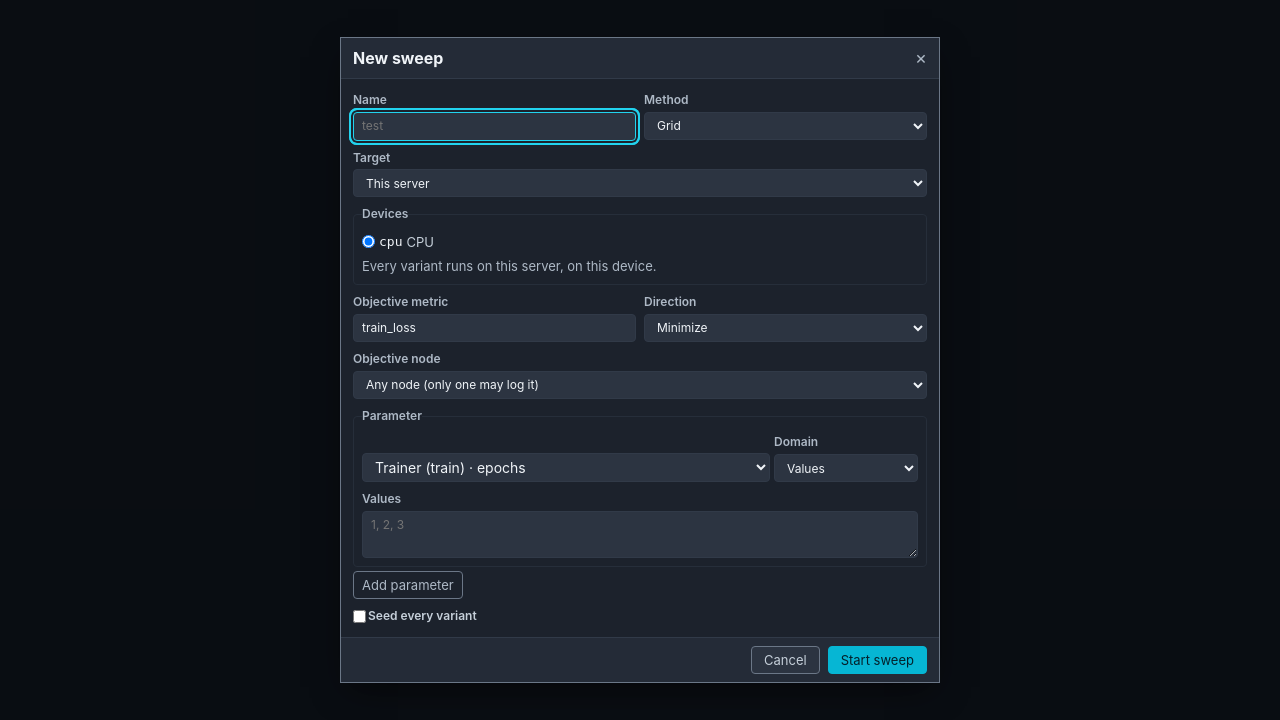
it: NewSweepDialog › names each parameter once, by its group
Click the button "Add parameter" at (408, 585), box x1=353 y1=571 x2=463 y2=599
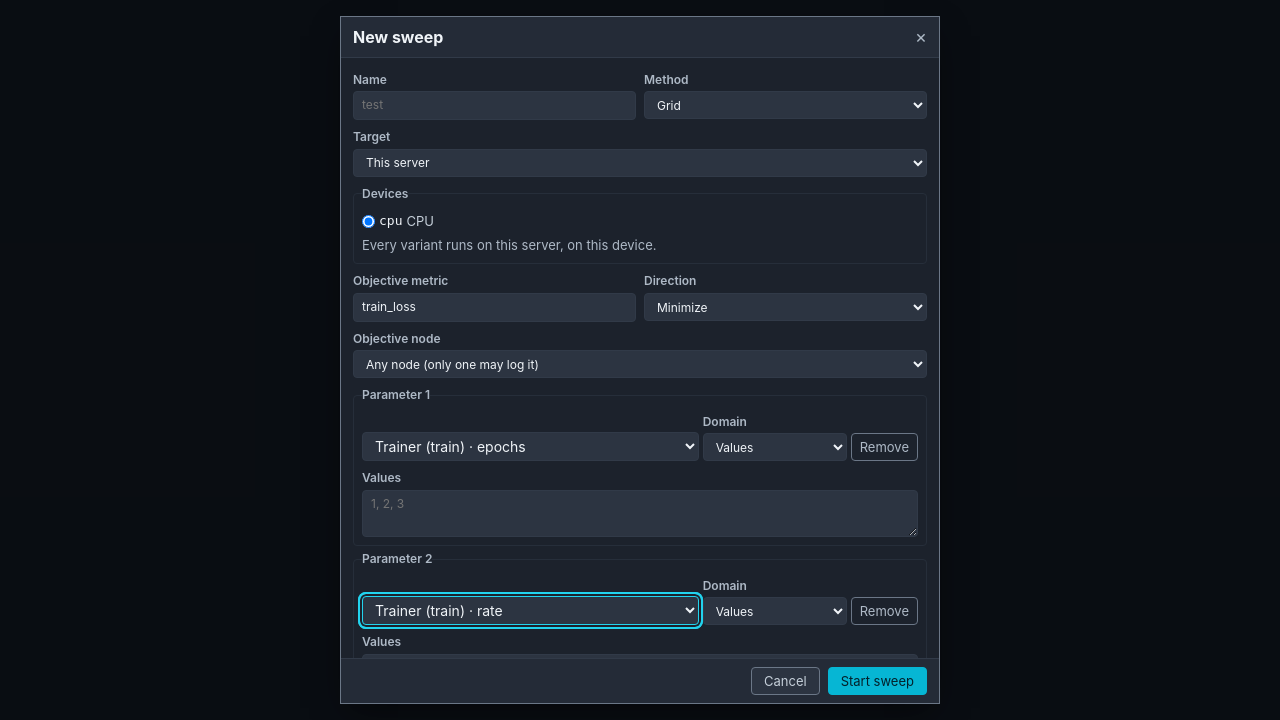
Result: the dropdown labelled "Parameter 2" is shown at x1=362 y1=596 x2=699 y2=625
